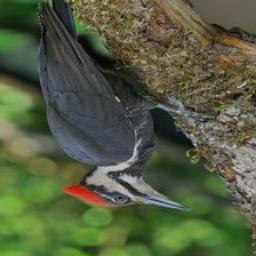Woodpecker: (21, 0, 214, 214)
